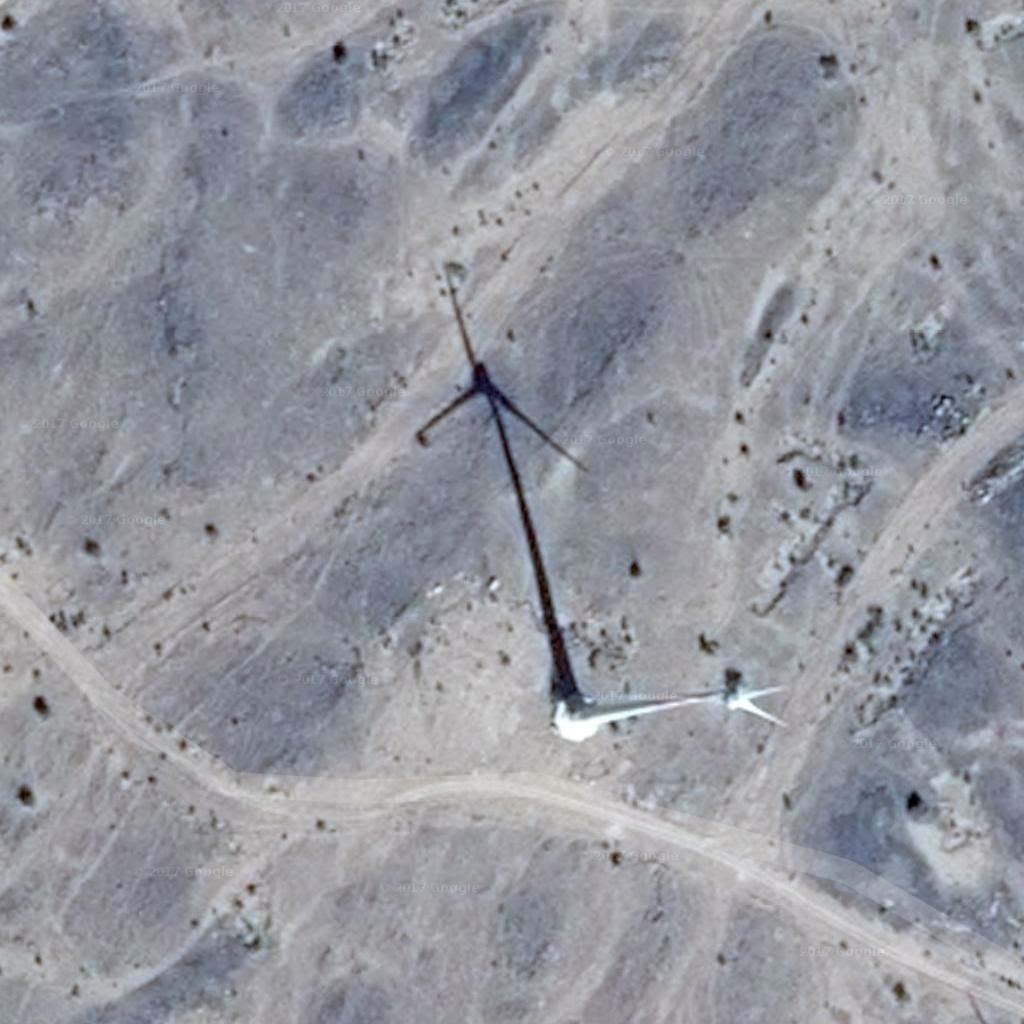Windmill: (416, 270, 617, 695)
